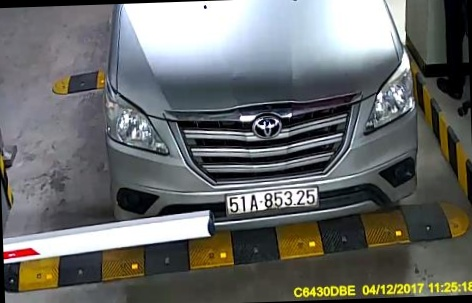plate: (220, 187, 326, 218)
